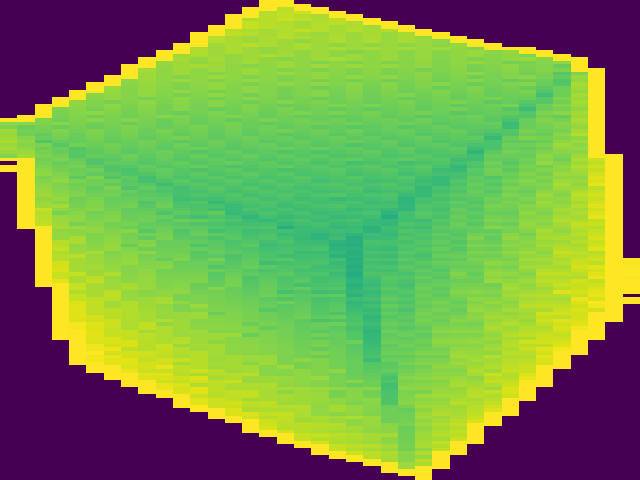cube: (3, 3, 640, 480)
